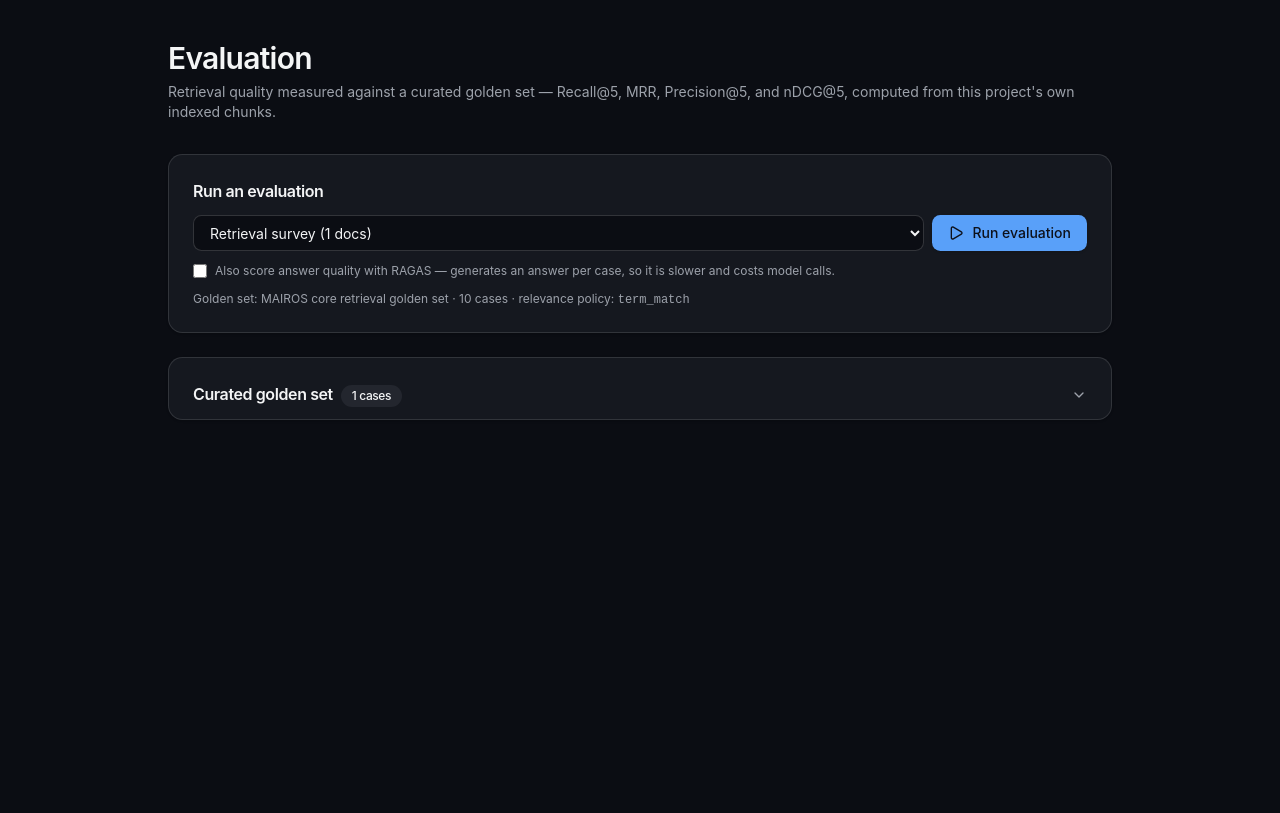
Test: Evaluation page › labels model-judged scores as such, separately from computed metrics
Click the button "Run evaluation". click: (1010, 233)
box: [932, 215, 1087, 251]
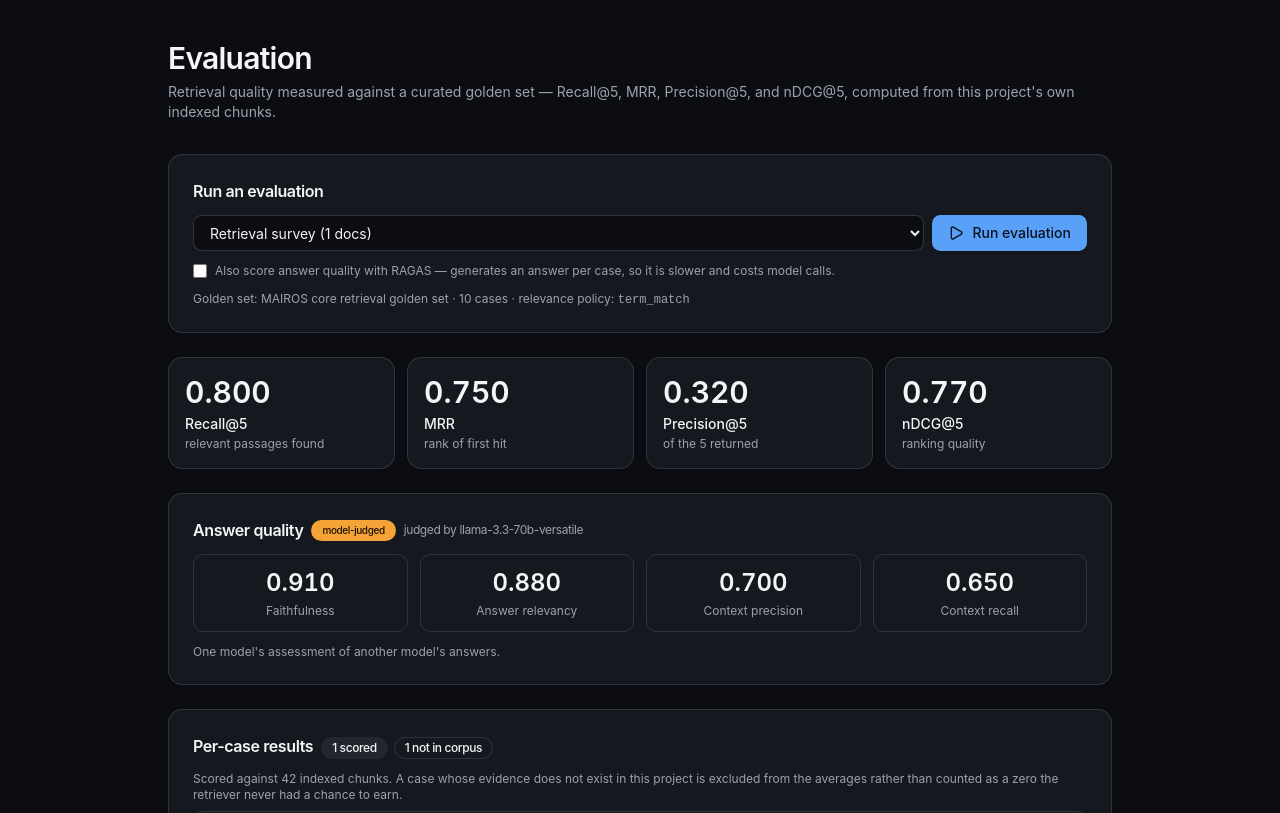
Check: the text "Answer quality" is shown, box [193, 520, 303, 540]
Check: the text "model-judged" is shown, box [311, 520, 396, 540]
Check: the text "judged by llama-3.3-70b-versatile" is shown, box [404, 522, 583, 538]
